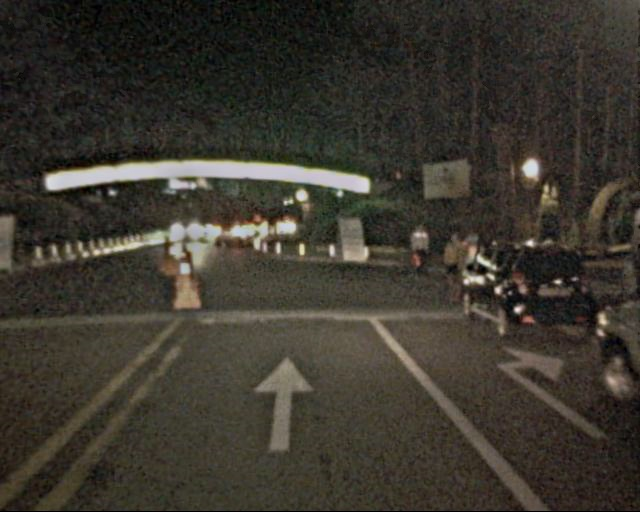person: (618, 226, 640, 302), (441, 236, 467, 300), (409, 221, 432, 278), (462, 231, 485, 287)
